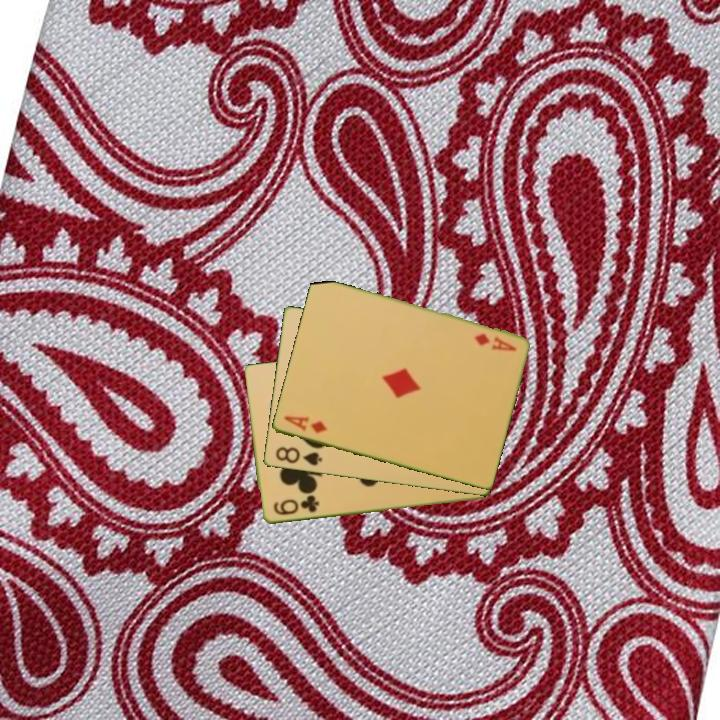6c: (270, 493, 322, 518)
8s: (272, 443, 324, 469)
Ad: (470, 330, 519, 354), (280, 413, 330, 436)
